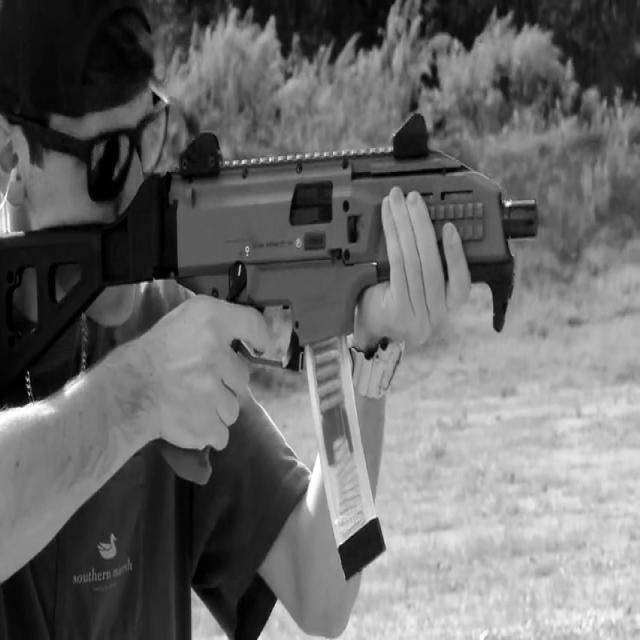Sub-machine-gun: (8, 111, 555, 556)
